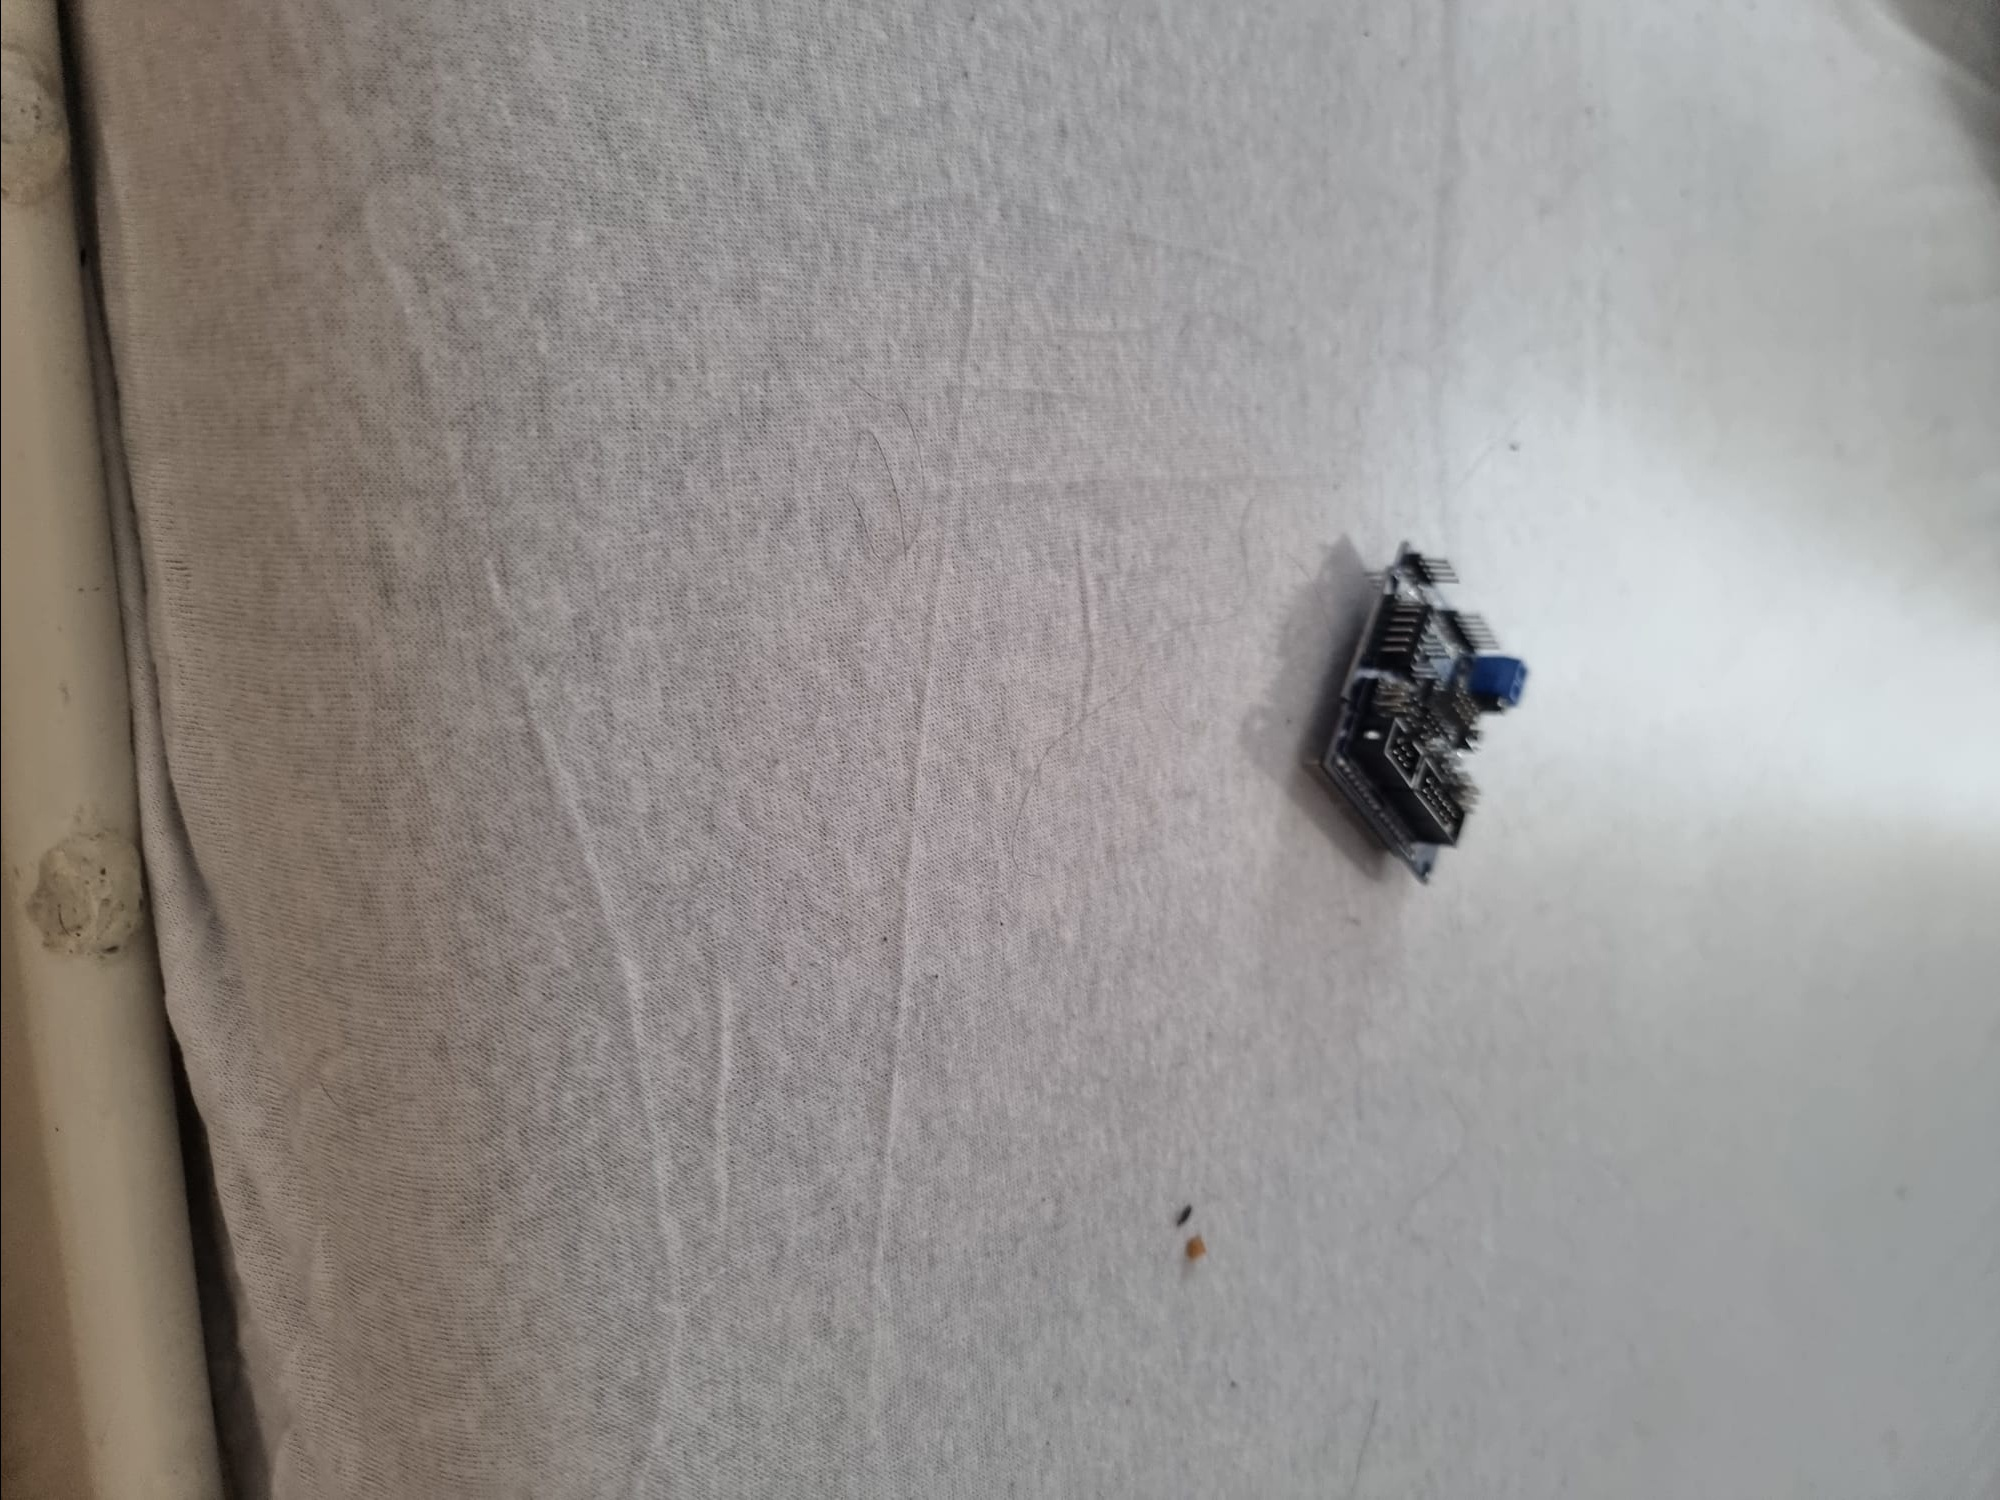5V EXPANSION: (1315, 537, 1531, 895)
